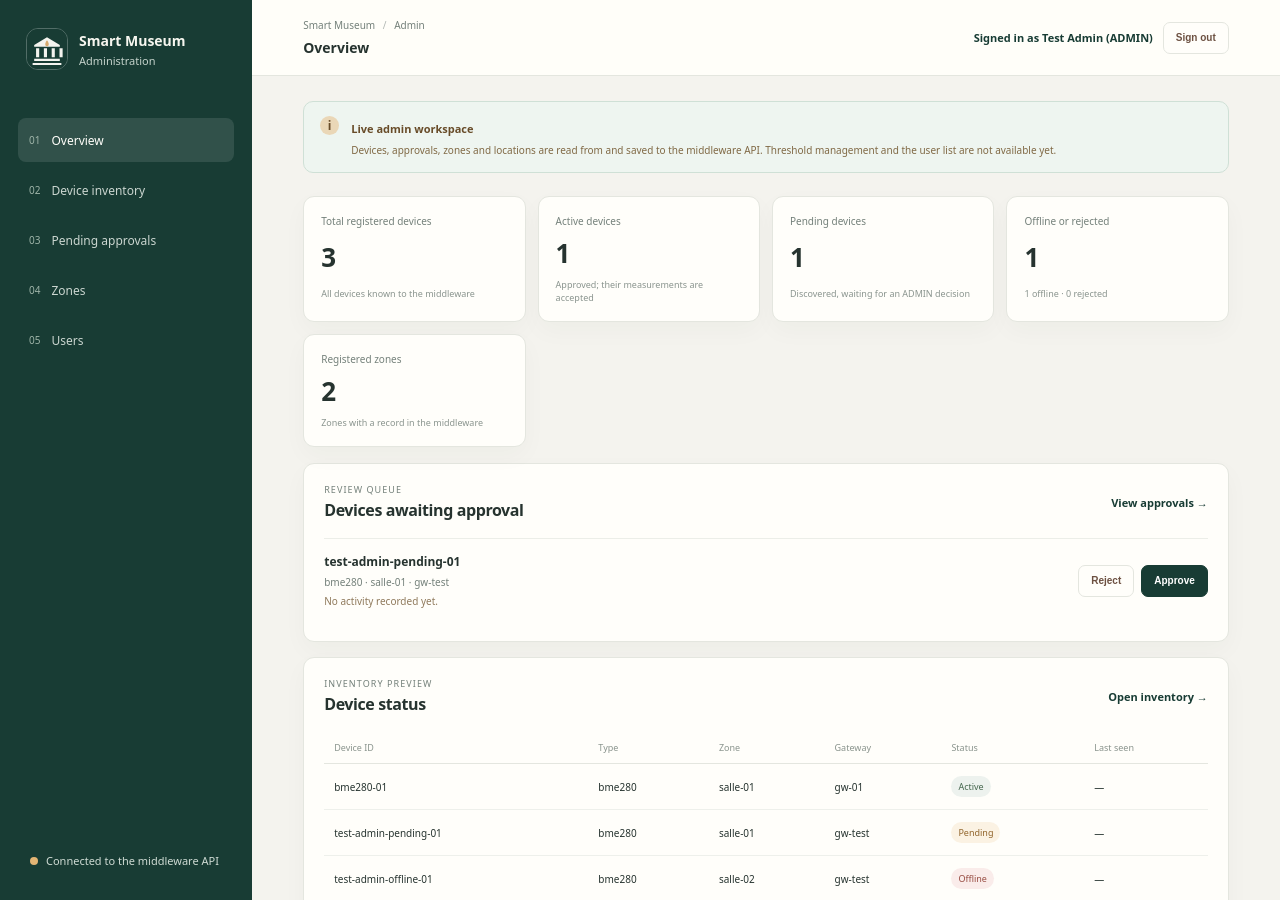
Thing Description view › lets the ADMIN inspect a pending device before deciding
Check: the text "Total registered devices" is shown, box [321,214,432,228]
Click the link "03 Pending approvals": point(93, 240) [29,232,156,248]
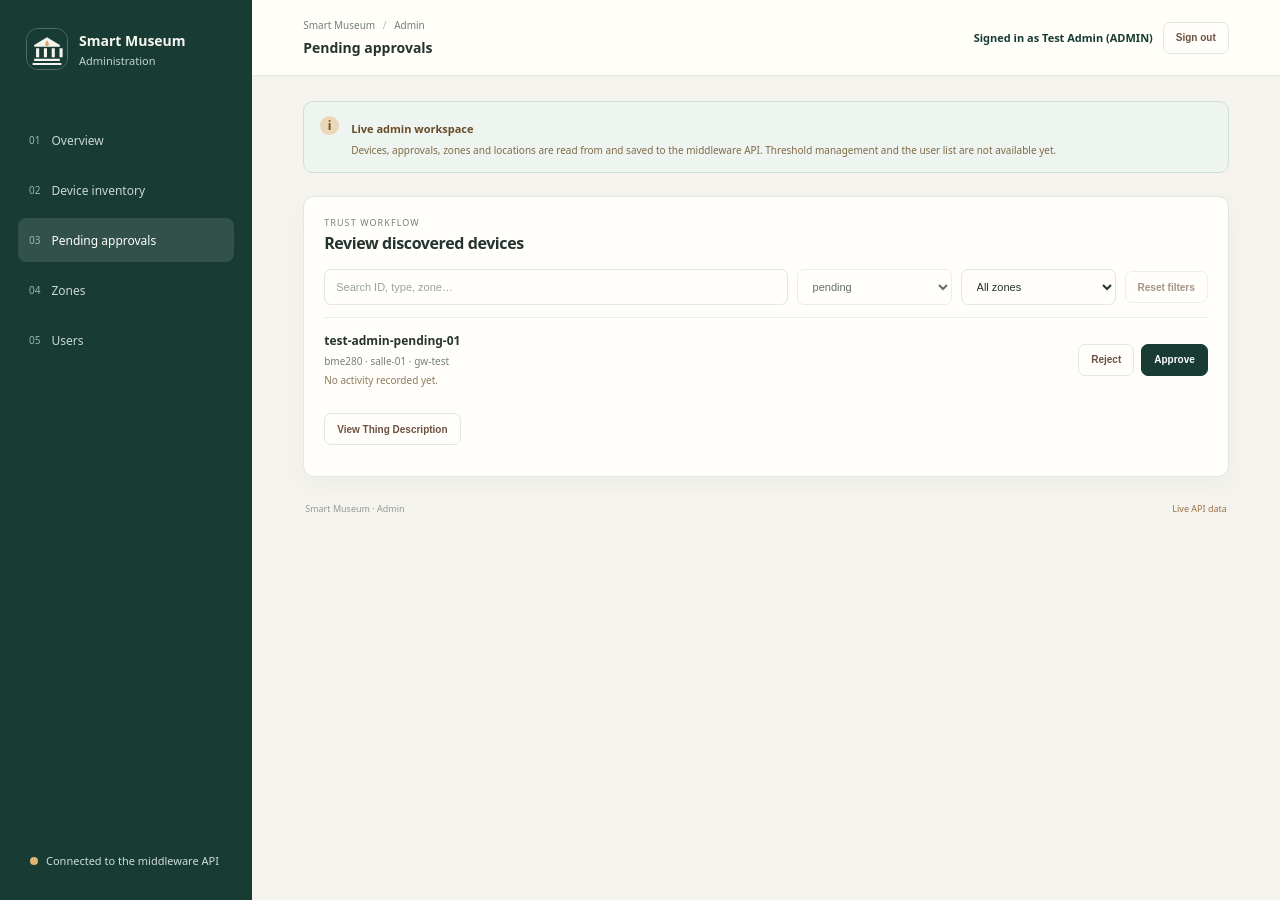
Check: the link "03 Pending approvals" is marked as current, box [18,218,234,262]
Click the button "View Thing Description": point(392, 429) [324,413,461,445]
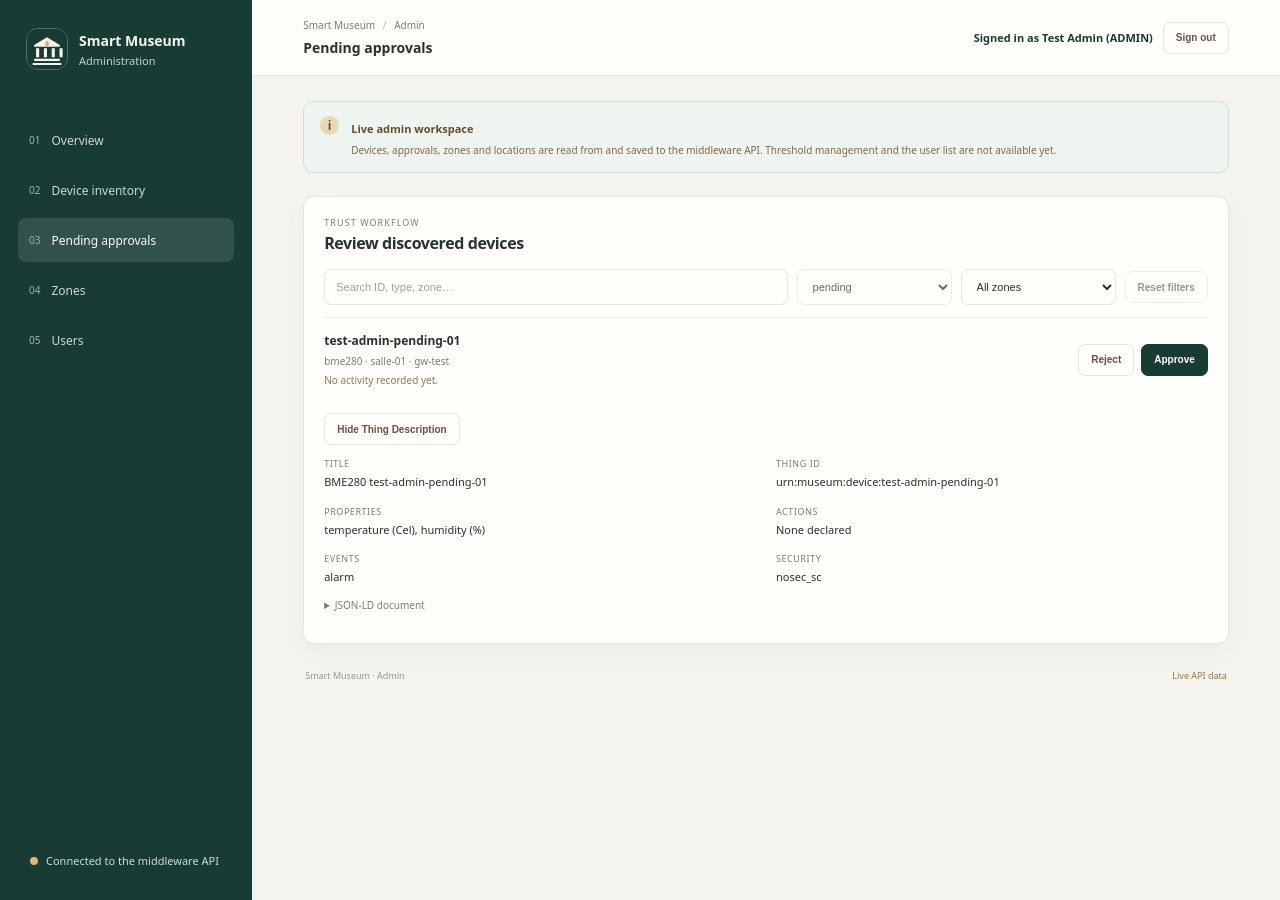
Check: the text "BME280 test-admin-pending-01" is shown, box [324,474,488,489]
Check: the text "temperature (Cel), humidity (%)" is shown, box [324,522,485,536]
Check: the text "alarm" is shown, box [324,569,354,584]
Click the button "Hide Thing Description": point(392, 429) [324,413,460,445]
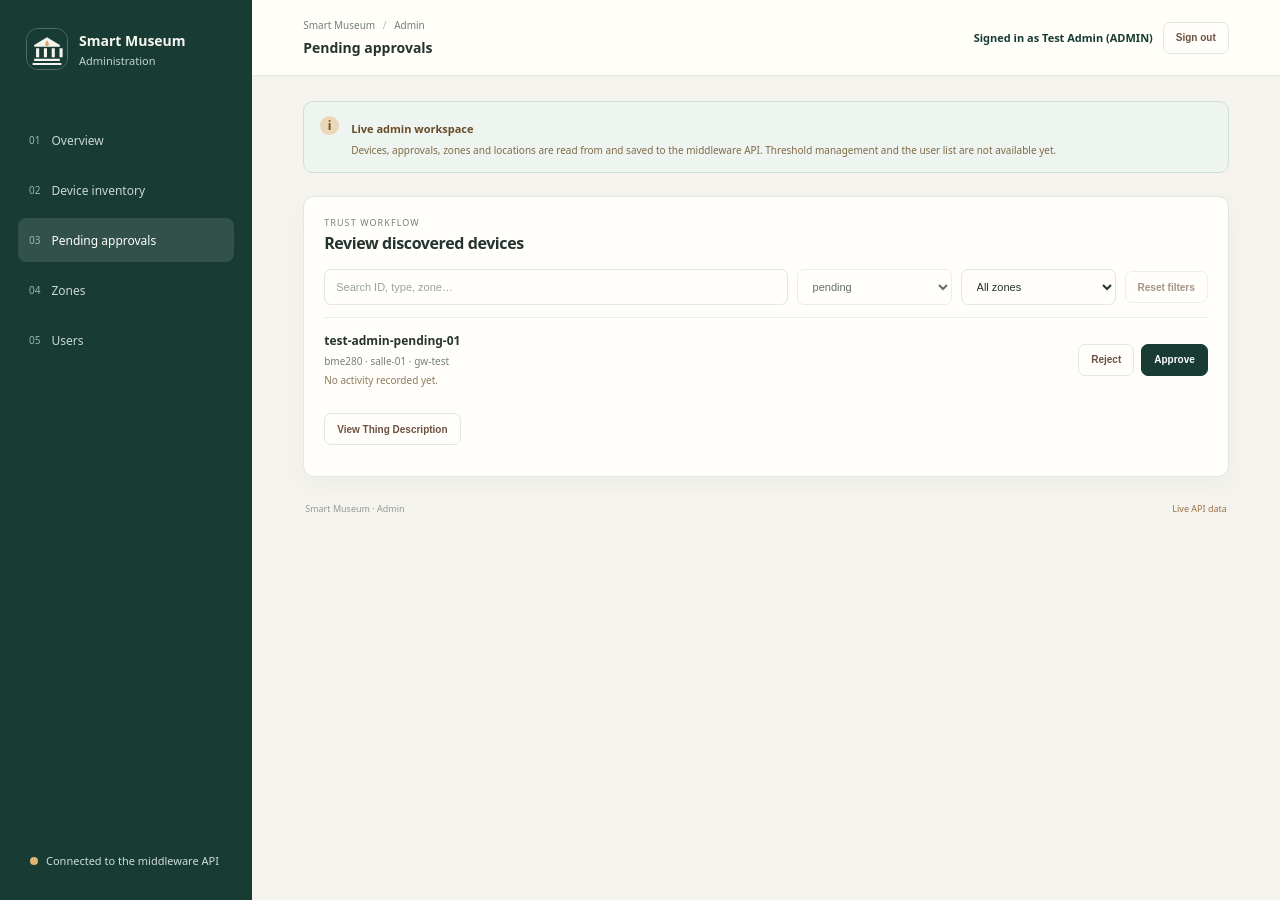
Check: the text "BME280 test-admin-pending-01" is gone
